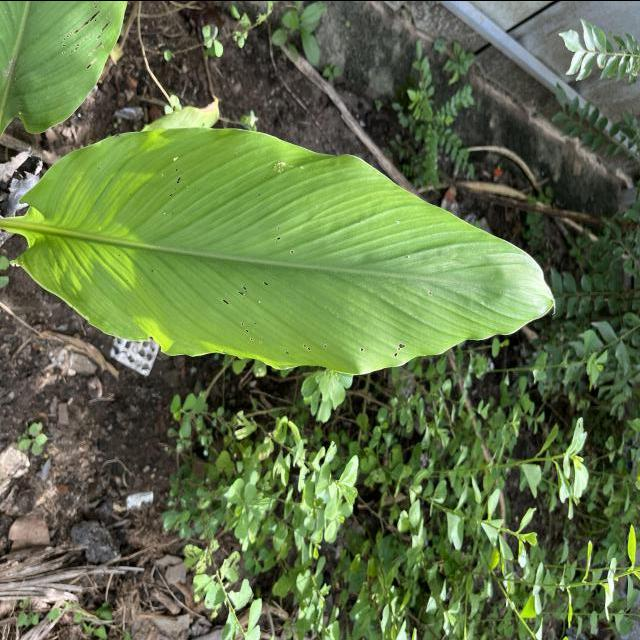Curcuma longa: (4, 122, 560, 376)
